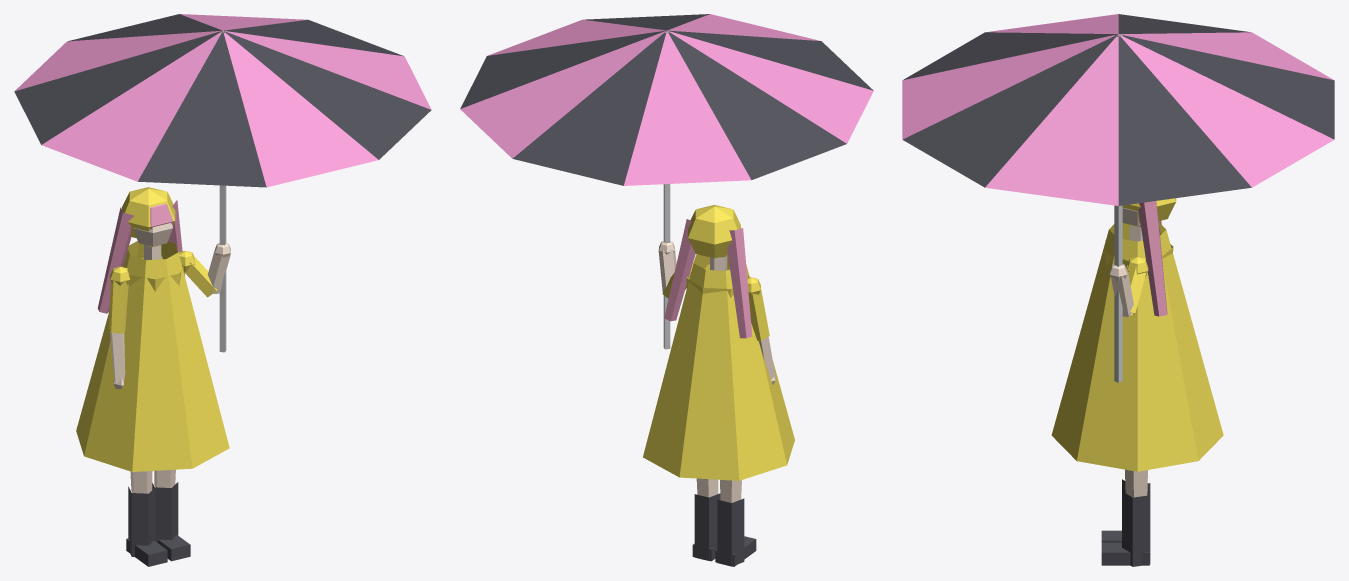
The model's file is fan_girl_rain.glb.
3 renders of one model, left to right at view 1: azimuth 30°, elevation 25°; view 2: azimuth 150°, elevation 25°; view 3: azimuth 270°, elevation 25°, orthographic. The views are drawn at different scales.
Visible parts, largest first — view 1: fan_girl_rain; view 2: fan_girl_rain; view 3: fan_girl_rain.
Part boxes in pixels (x1,y1,x2,y2): fan_girl_rain: (14, 14, 431, 566); fan_girl_rain: (460, 14, 873, 566); fan_girl_rain: (902, 14, 1334, 566).
Size of the model in its own units: 1.81 by 2.42 by 1.72.
